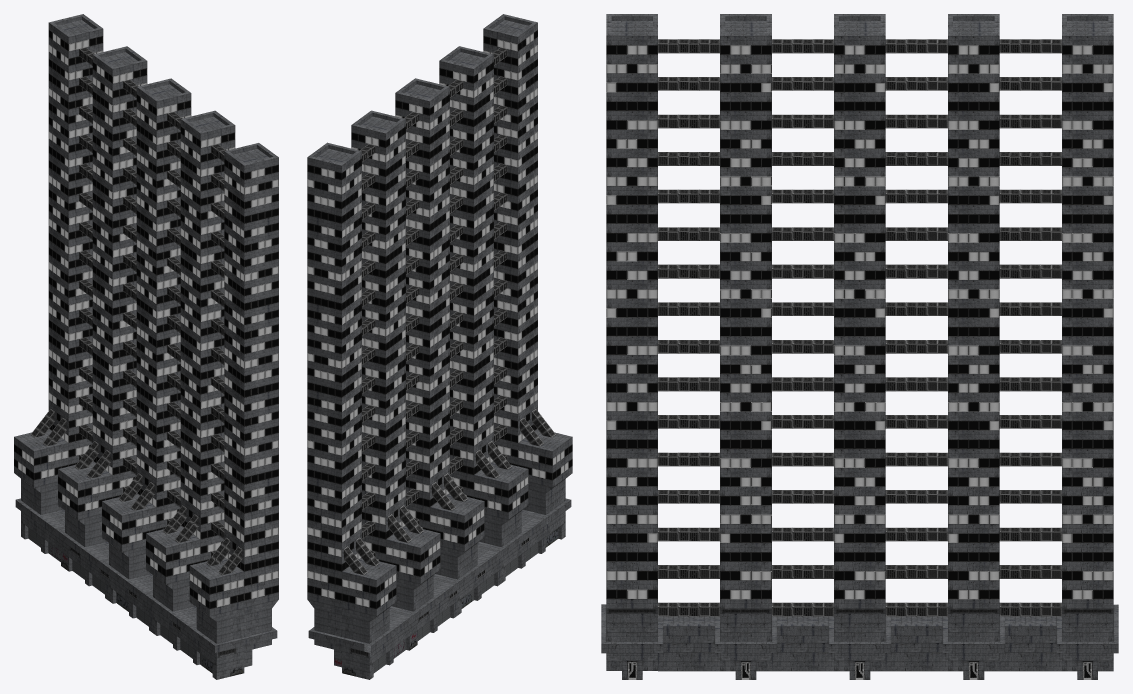
The model's file is brutalist_building_ps1_style.glb.
3 renders of one model, left to right at view 1: azimuth 30°, elevation 25°; view 2: azimuth 150°, elevation 25°; view 3: azimuth 270°, elevation 25°, orthographic. The views are drawn at different scales.
Visible parts, largest first — view 1: Cube.010; view 2: Cube.010; view 3: Cube.010.
Part boxes in pixels (x1,y1,x2,y2): Cube.010: (14, 14, 278, 679); Cube.010: (307, 14, 572, 679); Cube.010: (601, 14, 1118, 679).
Size of the model in its own units: 10.03 by 70 by 49.98.
2 materials, 2 textured.
